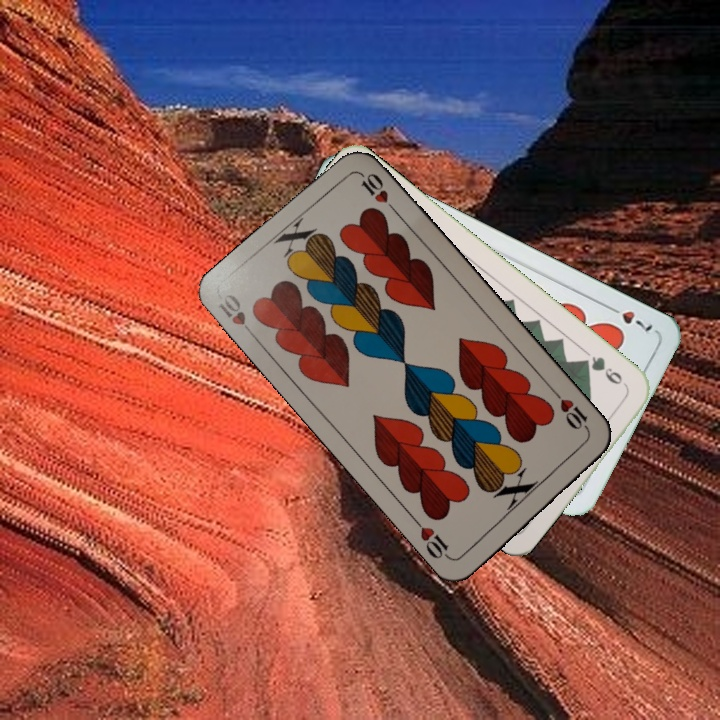G9: (577, 352, 625, 388)
H10: (214, 288, 260, 342), (549, 387, 593, 437)
H7: (602, 301, 656, 336)
